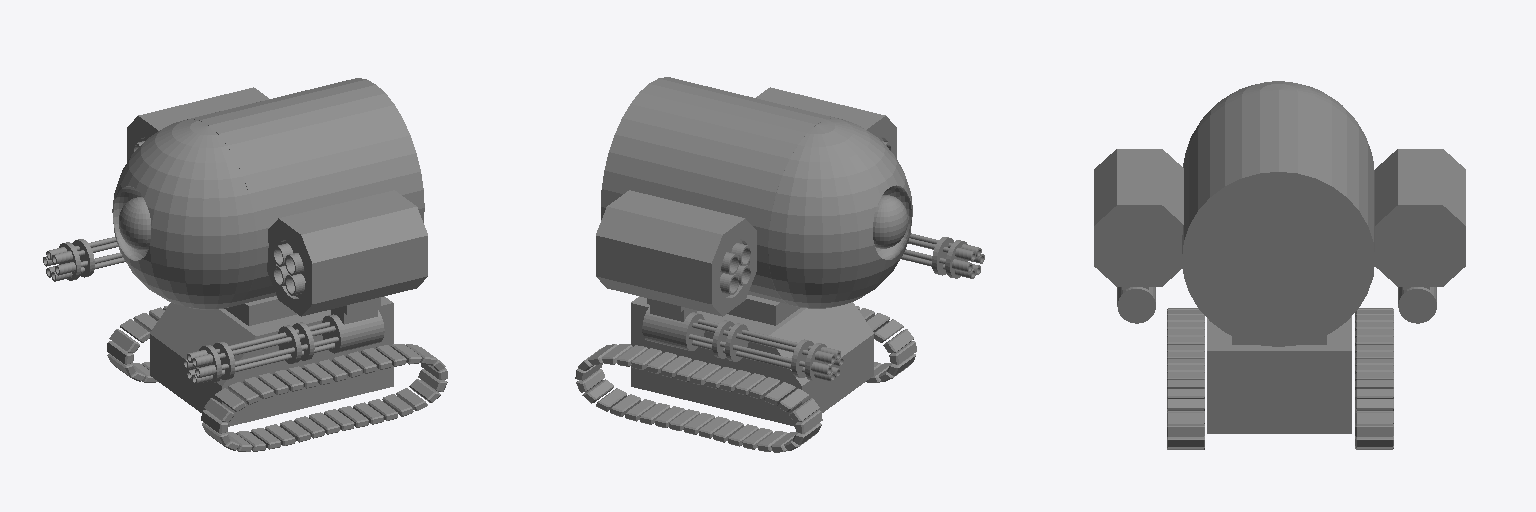
The picture shows the model from 3 angles: view 1: azimuth 30°, elevation 25°; view 2: azimuth 150°, elevation 25°; view 3: azimuth 270°, elevation 25°; orthographic projection.
Visible parts, largest first — view 1: Sphere.001; view 2: Sphere.001; view 3: Sphere.001.
Boxes of the visible parts, <box> form: Sphere.001: <box>43,78,447,451</box>; Sphere.001: <box>575,77,984,452</box>; Sphere.001: <box>1094,81,1465,449</box>.
Size of the model in its own units: 16.27 by 16.27 by 19.19.
1 materials, 1 textured.